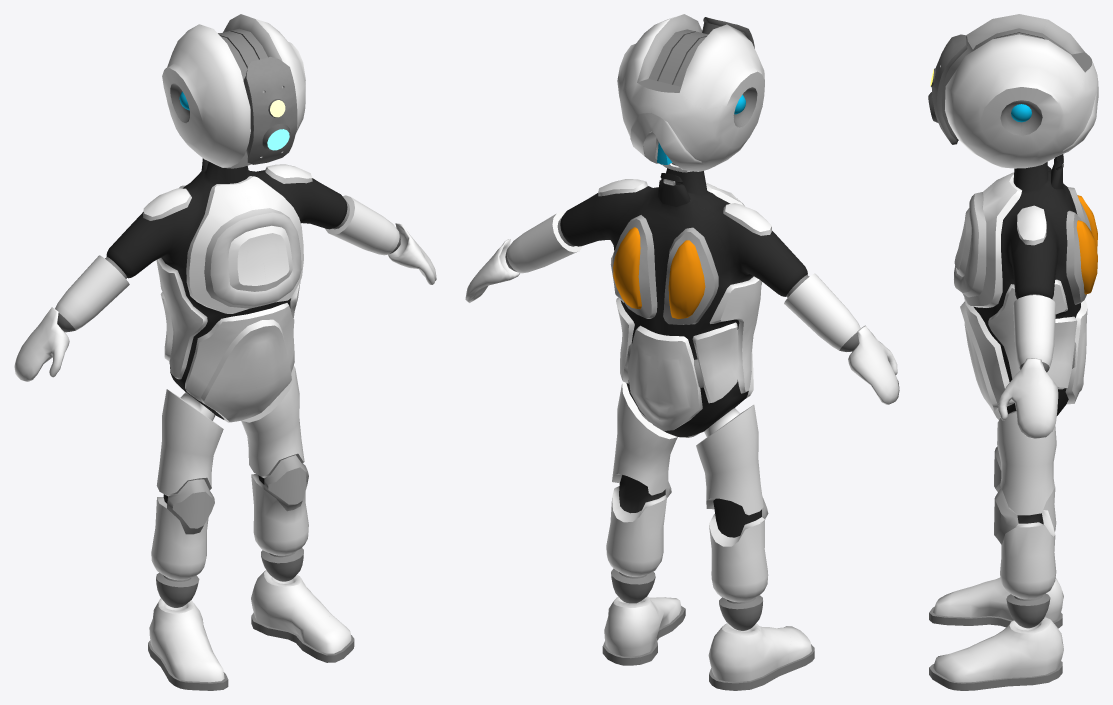
File: Stage2_Main_Charcter.fbx
3 renders of one model, left to right at view 1: azimuth 30°, elevation 25°; view 2: azimuth 150°, elevation 25°; view 3: azimuth 270°, elevation 25°, orthographic. The views are drawn at different scales.
Visible parts, largest first — view 1: skin0; view 2: skin0; view 3: skin0.
Part boxes in pixels (bbox=[...]): skin0: bbox=[14, 14, 436, 690]; skin0: bbox=[465, 14, 899, 690]; skin0: bbox=[928, 14, 1098, 690].
Bounding box in the file's own units: 193 × 276 × 68.47.
3 materials, 1 textured.
